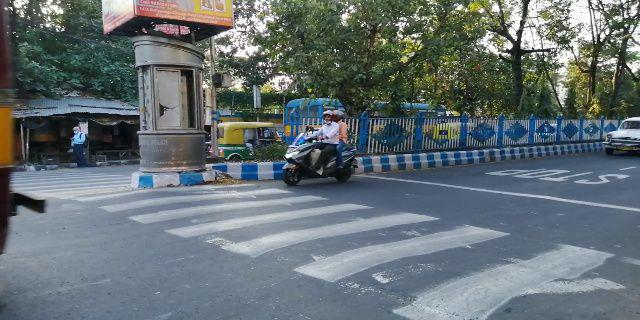Car: (595, 110, 639, 156)
Motorbike: (277, 109, 362, 189)
